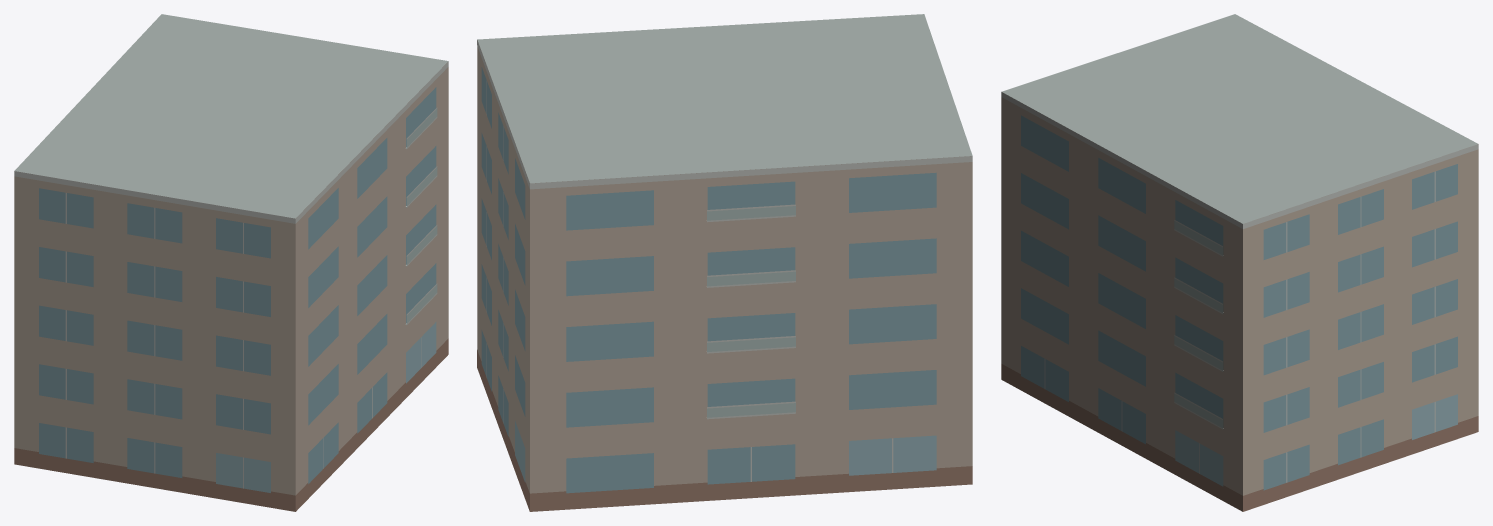
The model's file is survey-upis-33007877.glb.
The picture shows the model from 3 angles, left to right: view 1: azimuth 30°, elevation 25°; view 2: azimuth 150°, elevation 25°; view 3: azimuth 270°, elevation 25°; orthographic projection. The views are drawn at different scales.
Parts seen in each view (by area): view 1: survey-upis-33007877.tmp; view 2: survey-upis-33007877.tmp; view 3: survey-upis-33007877.tmp.
Part boxes in pixels (x1,y1,x2,y2): survey-upis-33007877.tmp: (14,14,448,511); survey-upis-33007877.tmp: (477,14,972,511); survey-upis-33007877.tmp: (1001,14,1478,511).
Bounding box in the file's own units: 20.97 × 13.4 × 20.14.
